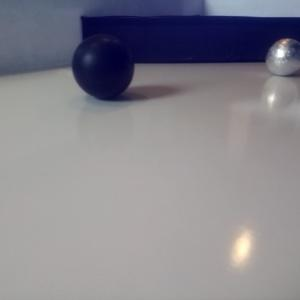zone: (81, 15, 300, 64)
